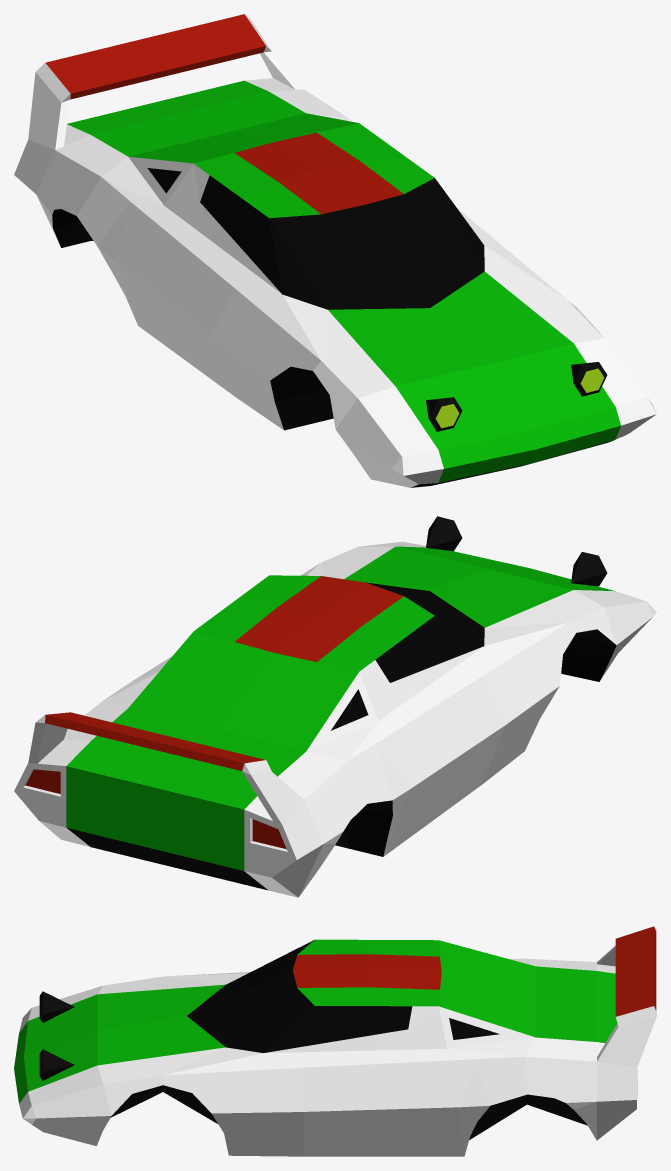
The model's file is RallyDefBody.fbx.
3 views of the same model, one above another, from view 1: azimuth 30°, elevation 25°; view 2: azimuth 150°, elevation 25°; view 3: azimuth 270°, elevation 25° (orthographic). The views are drawn at different scales.
Parts seen in each view (by area): view 1: CarBody; view 2: CarBody; view 3: CarBody.
Boxes of the visible parts, box(x1,y1,x2,y2) form: CarBody: box(14, 14, 656, 487); CarBody: box(14, 516, 656, 897); CarBody: box(14, 926, 656, 1156).
Bounding box in the file's own units: 161 × 90.13 × 371.
